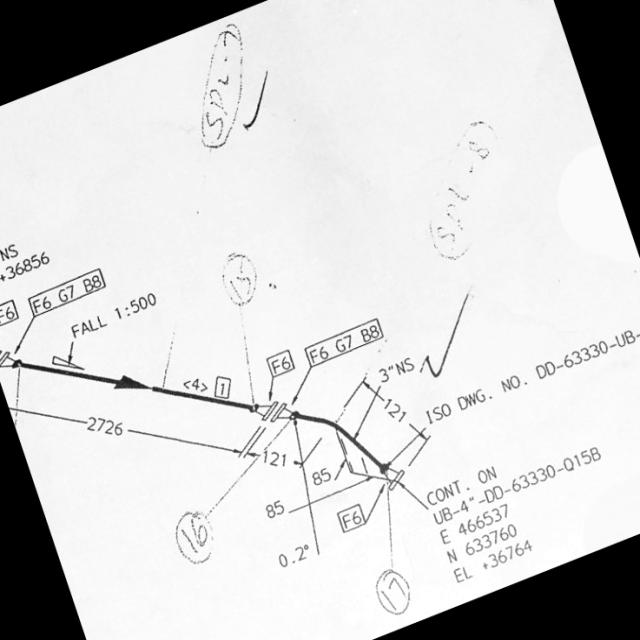Item number: (25, 264, 109, 322), (302, 314, 387, 370), (301, 412, 384, 468), (335, 501, 370, 536), (265, 346, 299, 382), (212, 372, 236, 401)
Measrement: (5, 399, 248, 459), (358, 371, 438, 451), (259, 472, 375, 525), (242, 444, 309, 474), (374, 349, 418, 388), (308, 451, 350, 491)
Pipeline: (19, 361, 250, 411)
Symbol: (254, 400, 297, 425), (110, 372, 153, 395), (379, 461, 405, 491), (49, 353, 87, 371)
Weld number: (169, 507, 222, 568), (215, 248, 264, 309), (370, 566, 414, 618)
other: (420, 412, 628, 593), (423, 315, 639, 433), (64, 282, 163, 346), (275, 541, 322, 572)
